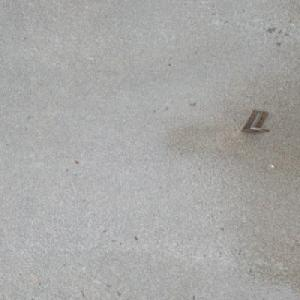MetalPart: (239, 109, 271, 135)
